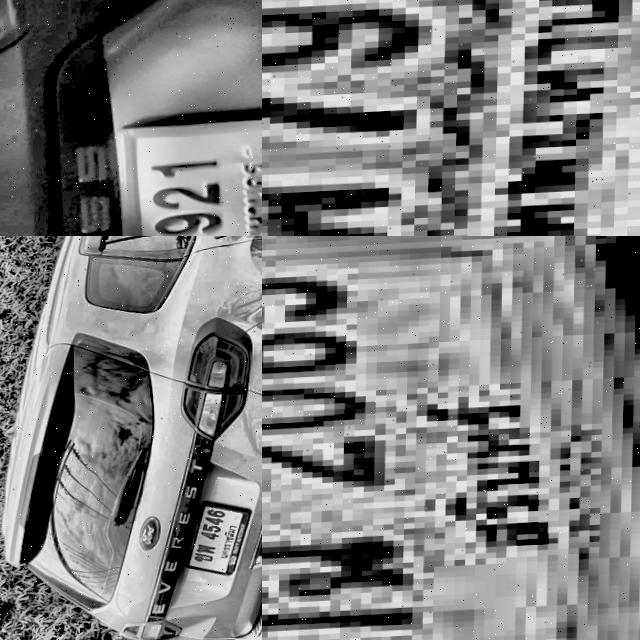license-plate: (262, 236, 640, 640), (262, 0, 640, 236), (120, 116, 262, 236), (180, 500, 255, 581)
